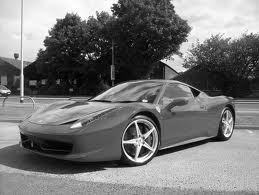car: (19, 81, 238, 168)
